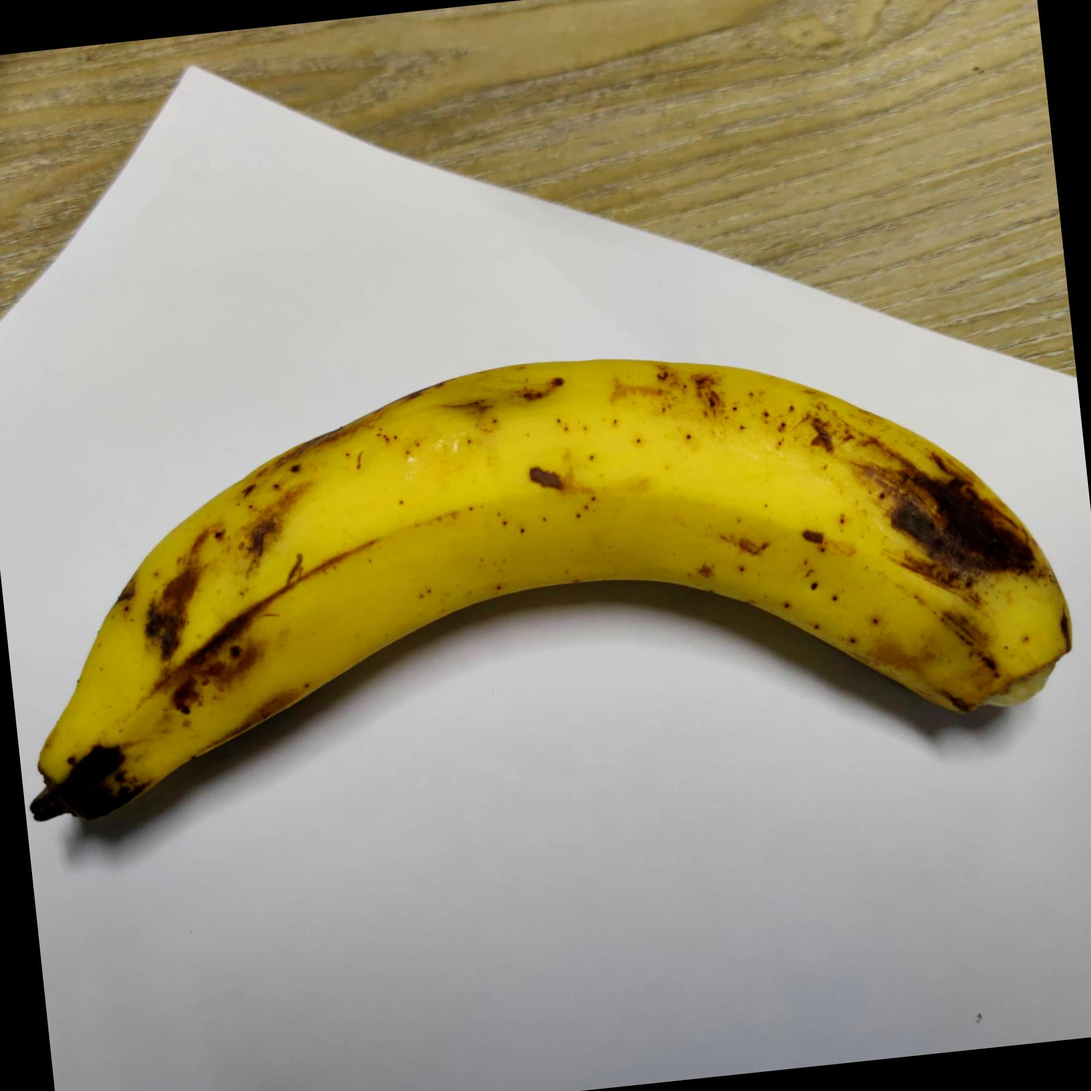Banana Ripe: (0, 270, 1091, 919)
